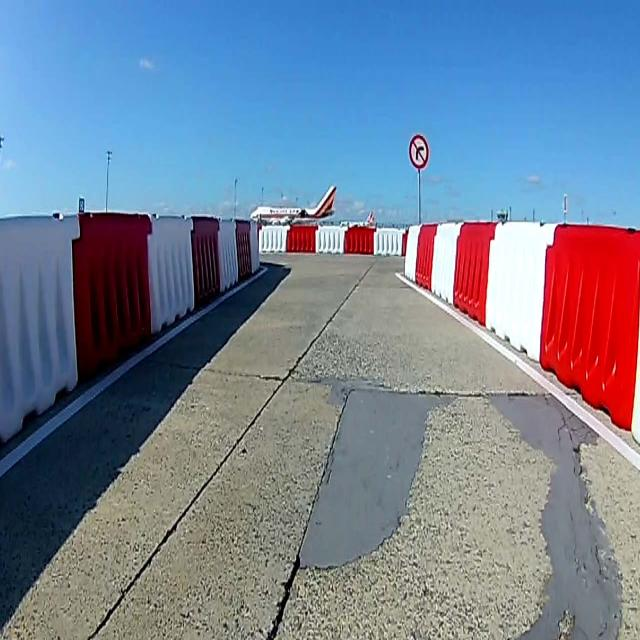sagadonulmez: (408, 133, 429, 170)
